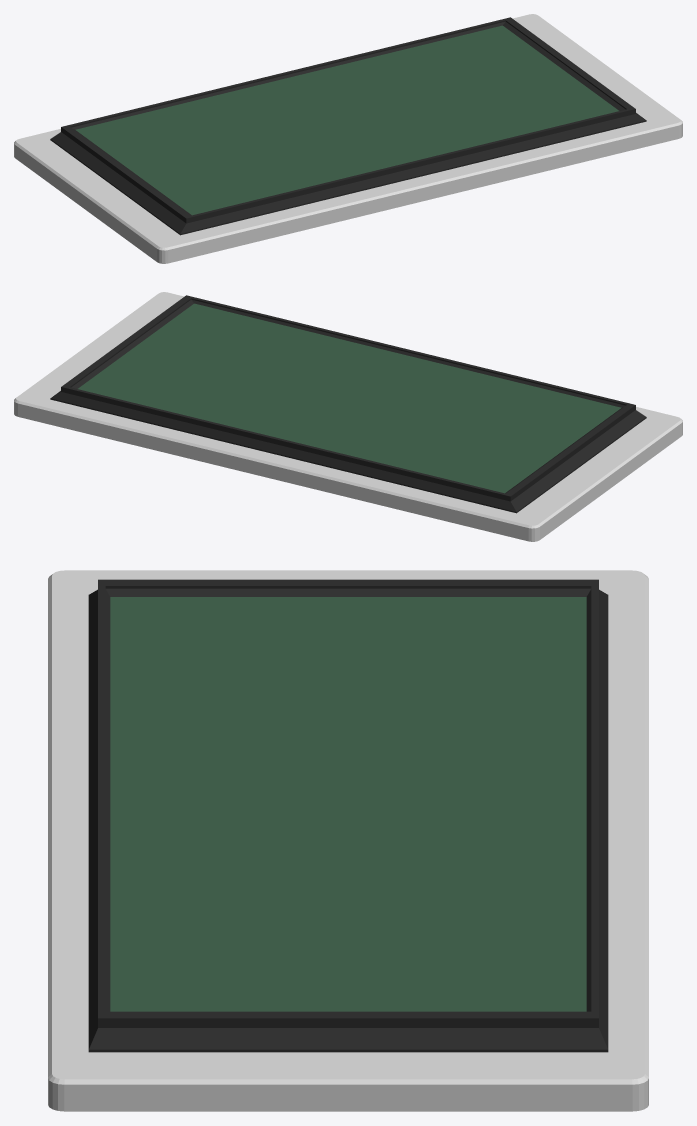
Rendered from panel_big_screen.fbx.
3 renders of one model, top to bottom at view 1: azimuth 30°, elevation 25°; view 2: azimuth 150°, elevation 25°; view 3: azimuth 270°, elevation 25°, orthographic. The views are drawn at different scales.
Parts seen in each view (by area): view 1: Plane.019; view 2: Plane.019; view 3: Plane.019.
Boxes of the visible parts, x1,y1,x2,y2 form: Plane.019: (14,14,682,263); Plane.019: (14,292,682,541); Plane.019: (48,570,648,1111).
Bounding box in the file's own units: 71.3 × 3.67 × 35.37.
